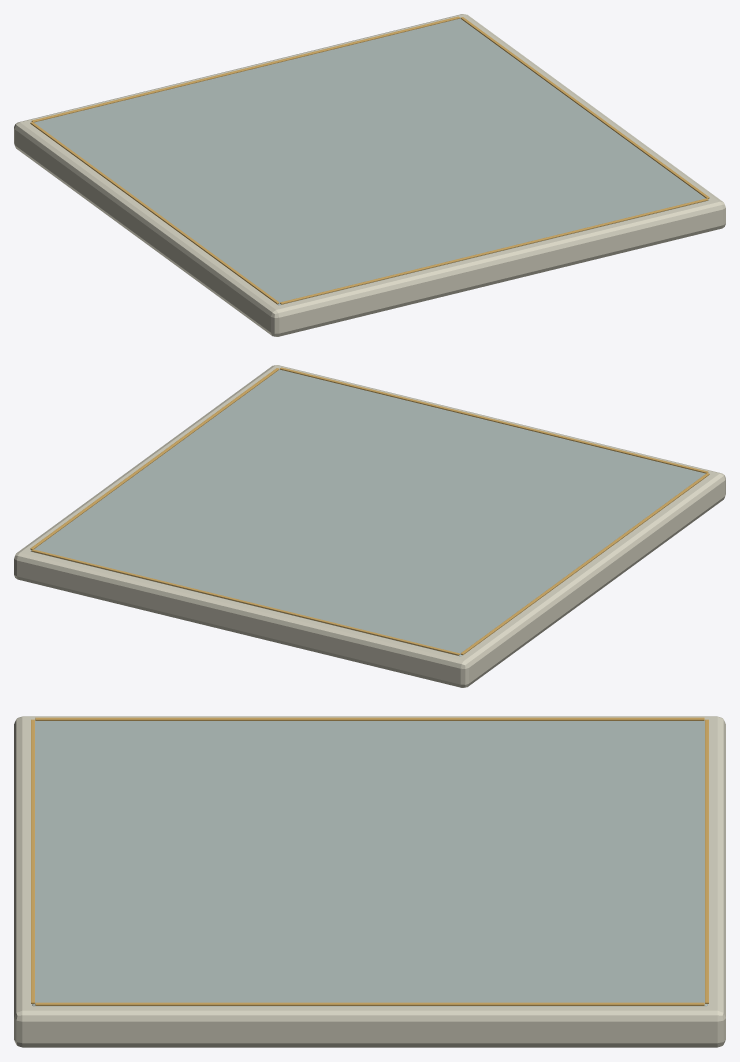
File: floor.glb
3 renders of one model, top to bottom at view 1: azimuth 30°, elevation 25°; view 2: azimuth 150°, elevation 25°; view 3: azimuth 270°, elevation 25°, orthographic. The views are drawn at different scales.
Visible parts, largest first — view 1: floor; view 2: floor; view 3: floor.
Boxes of the visible parts, x1=… form: floor: x1=14, y1=14, x2=725, y2=336; floor: x1=14, y1=365, x2=725, y2=687; floor: x1=14, y1=716, x2=725, y2=1047.
Size of the model in its own units: 3 by 0.1835 by 3.
